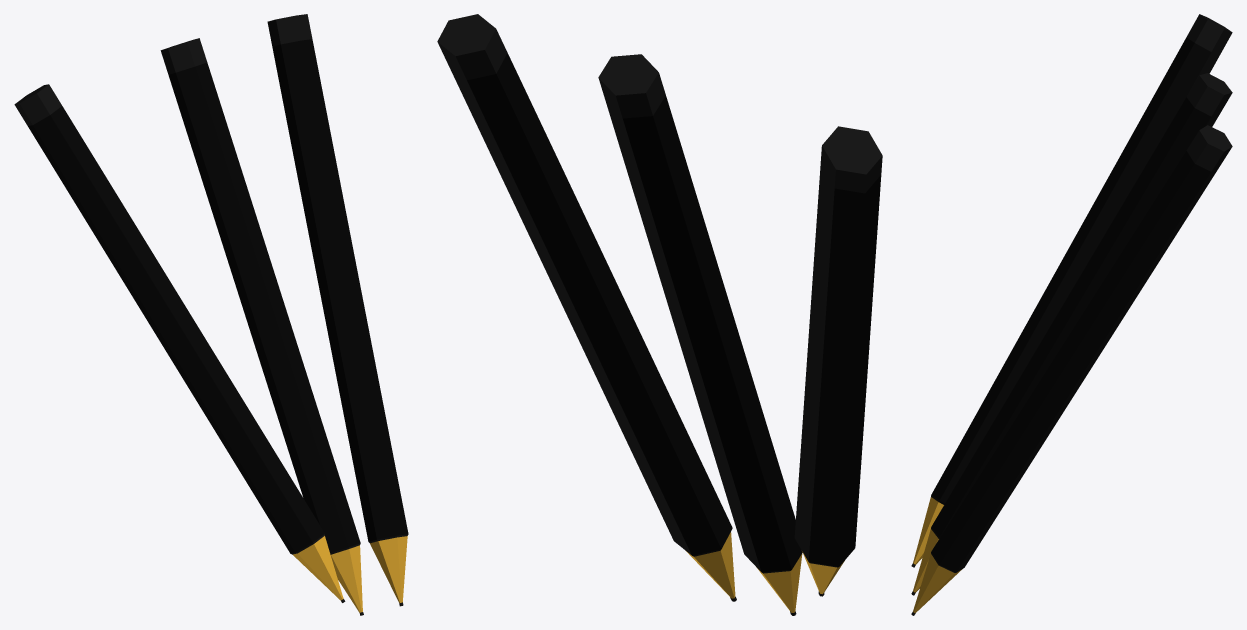
File: ScrivaniaLorenzoPenne.gltf
The picture shows the model from 3 angles, left to right: view 1: azimuth 30°, elevation 25°; view 2: azimuth 150°, elevation 25°; view 3: azimuth 270°, elevation 25°; orthographic projection. The views are drawn at different scales.
Parts seen in each view (by area): view 1: Lorenzo PortaPenne Penna 3, Lorenzo PortaPenne Penna 2, Lorenzo PortaPenne Penna 1; view 2: Lorenzo PortaPenne Penna 3, Lorenzo PortaPenne Penna 2, Lorenzo PortaPenne Penna 1; view 3: Lorenzo PortaPenne Penna 3, Lorenzo PortaPenne Penna 1, Lorenzo PortaPenne Penna 2.
Part boxes in pixels (x1=…): Lorenzo PortaPenne Penna 3: x1=267, y1=14, x2=408, y2=606; Lorenzo PortaPenne Penna 2: x1=160, y1=38, x2=363, y2=615; Lorenzo PortaPenne Penna 1: x1=14, y1=84, x2=345, y2=602; Lorenzo PortaPenne Penna 3: x1=437, y1=14, x2=736, y2=601; Lorenzo PortaPenne Penna 2: x1=598, y1=54, x2=802, y2=615; Lorenzo PortaPenne Penna 1: x1=794, y1=126, x2=882, y2=596; Lorenzo PortaPenne Penna 3: x1=911, y1=125, x2=1232, y2=615; Lorenzo PortaPenne Penna 1: x1=911, y1=14, x2=1232, y2=567; Lorenzo PortaPenne Penna 2: x1=911, y1=73, x2=1232, y2=595.
Size of the model in its own units: 0.0431 by 0.069 by 0.04.
Materials: 3 (1 with a texture image).
